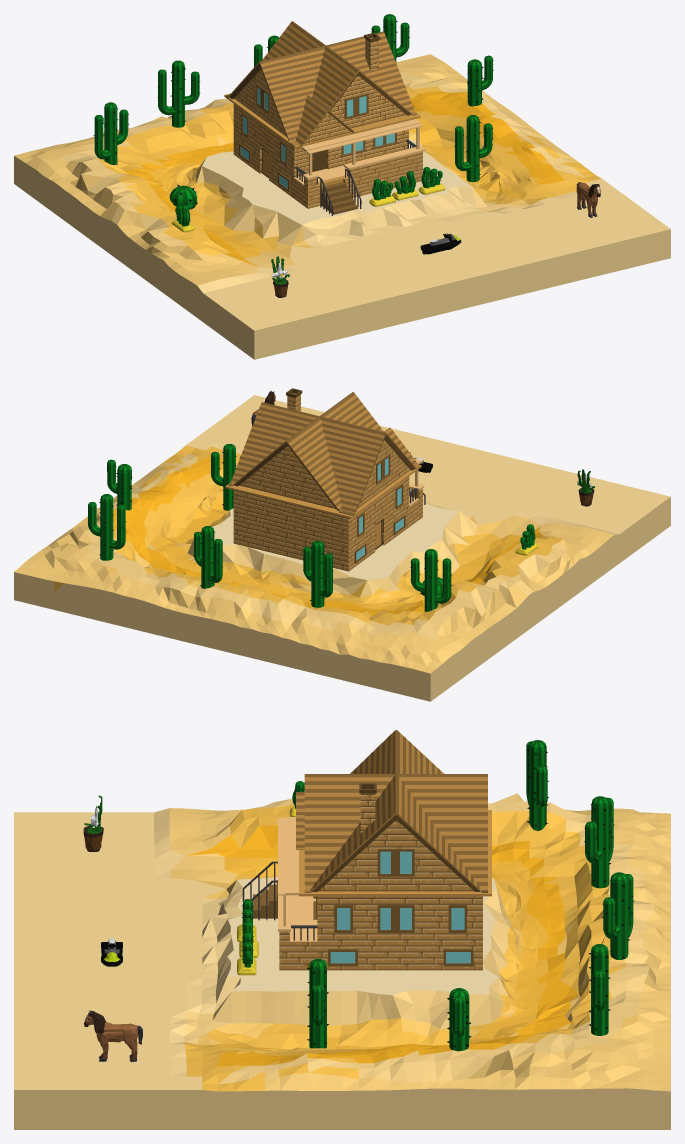
3 views of the same model, one above another, from view 1: azimuth 30°, elevation 25°; view 2: azimuth 150°, elevation 25°; view 3: azimuth 270°, elevation 25° (orthographic). The views are drawn at different scales.
Visible parts, largest first — view 1: Cube.001, Cube.508, Cylinder.037, Cylinder.044, Cylinder.045, Cylinder.038, Cylinder.042, ANIMAL_CABALLO, Cylinder.039, Cylinder.041, OBJRANDOM_MONJA BLANCA, Sphere.023 (+1 smaller); view 2: Cube.001, Cube.508, Cylinder.042, Cylinder.045, Cylinder.044, Cylinder.043, Cylinder.037, Cylinder.038; view 3: Cube.001, Cube.508, Cylinder.043, Cylinder.044, Cylinder.045, Cylinder.042, Cylinder.037, ANIMAL_CABALLO, Cylinder.038, OBJRANDOM_MONJA BLANCA, Cylinder.041.
Boxes of the visible parts, x1=… form: Cube.001: x1=14, y1=54, x2=670, y2=359; Cube.508: x1=224, y1=21, x2=425, y2=215; Cylinder.037: x1=454, y1=115, x2=493, y2=182; Cylinder.044: x1=157, y1=60, x2=200, y2=127; Cylinder.045: x1=93, y1=102, x2=129, y2=164; Cylinder.038: x1=467, y1=55, x2=493, y2=106; Cylinder.042: x1=371, y1=14, x2=409, y2=62; ANIMAL_CABALLO: x1=576, y1=182, x2=600, y2=217; Cylinder.039: x1=369, y1=179, x2=395, y2=206; Cylinder.041: x1=418, y1=167, x2=445, y2=194; OBJRANDOM_MONJA BLANCA: x1=271, y1=256, x2=289, y2=297; Sphere.023: x1=169, y1=184, x2=197, y2=209; Cube.001: x1=14, y1=395, x2=670, y2=701; Cube.508: x1=225, y1=388, x2=425, y2=571; Cylinder.042: x1=88, y1=494, x2=126, y2=560; Cylinder.045: x1=410, y1=549, x2=452, y2=611; Cylinder.044: x1=303, y1=540, x2=333, y2=607; Cylinder.043: x1=193, y1=526, x2=222, y2=588; Cylinder.037: x1=211, y1=444, x2=240, y2=510; Cylinder.038: x1=107, y1=459, x2=131, y2=510; Cube.001: x1=14, y1=793, x2=670, y2=1129; Cube.508: x1=242, y1=730, x2=491, y2=970; Cylinder.043: x1=602, y1=872, x2=634, y2=959; Cylinder.044: x1=584, y1=796, x2=614, y2=888; Cylinder.045: x1=526, y1=740, x2=549, y2=830; Cylinder.042: x1=588, y1=944, x2=610, y2=1035; Cylinder.037: x1=307, y1=959, x2=329, y2=1048; ANIMAL_CABALLO: x1=84, y1=1010, x2=142, y2=1062; Cylinder.038: x1=447, y1=988, x2=471, y2=1051; OBJRANDOM_MONJA BLANCA: x1=83, y1=795, x2=103, y2=851; Cylinder.041: x1=237, y1=932, x2=256, y2=975.
Size of the model in its own units: 4002 by 1650 by 4001.
31 materials, 4 textured.
